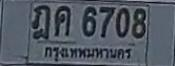0: (116, 7, 130, 38)
6: (82, 6, 96, 36)
7: (99, 6, 115, 37)
8: (132, 8, 146, 38)
A04: (55, 6, 71, 36)
A14: (31, 4, 50, 39)
BKK: (41, 44, 135, 64)
